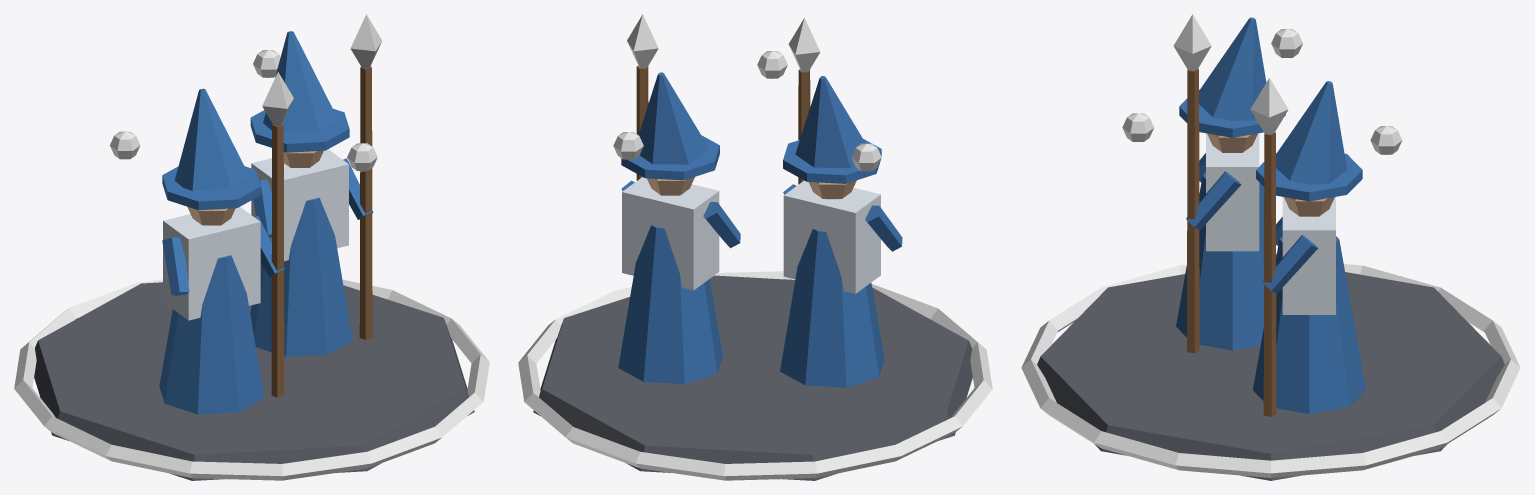
File: missile_ship.fbx
3 views of the same model, side by side, from view 1: azimuth 30°, elevation 25°; view 2: azimuth 150°, elevation 25°; view 3: azimuth 270°, elevation 25° (orthographic). The views are drawn at different scales.
Visible parts, largest first — view 1: missile_ship; view 2: missile_ship; view 3: missile_ship.
Part boxes in pixels (<box>): missile_ship: <box>14,14,489,480</box>; missile_ship: <box>518,14,992,480</box>; missile_ship: <box>1021,14,1520,480</box>.
Bounding box in the file's own units: 1.56 × 1.24 × 1.56.
2 materials, 1 textured.
